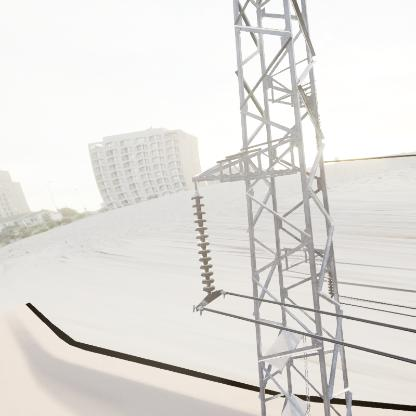insulator: (188, 193, 217, 295)
